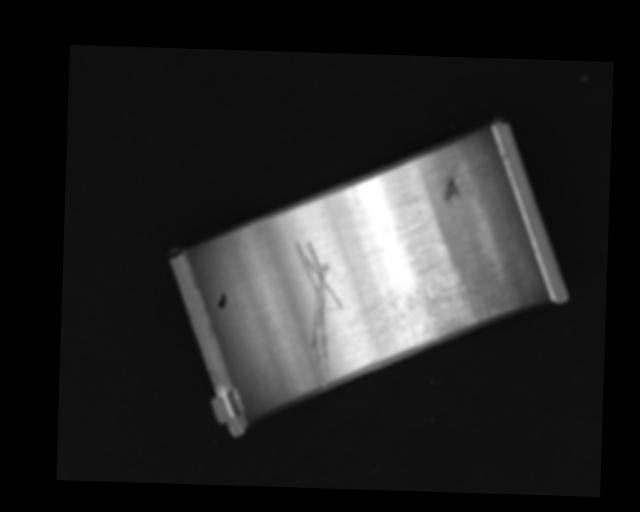blot: (217, 290, 227, 309)
bruise: (442, 175, 463, 204)
nick: (289, 239, 344, 389)
scratch: (375, 259, 502, 353)
